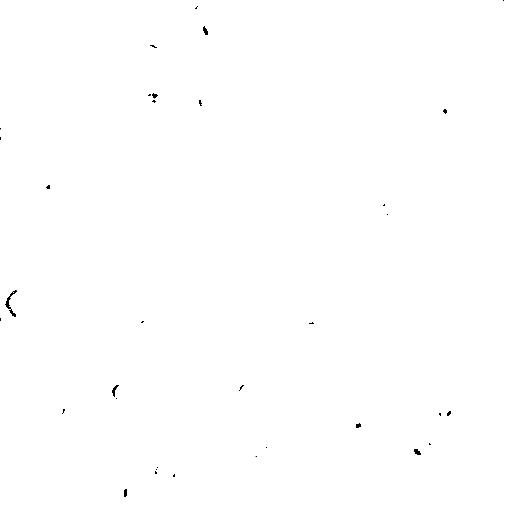micro-algae: (407, 428, 461, 486), (349, 0, 423, 41), (203, 35, 250, 77), (185, 59, 226, 97), (453, 1, 495, 31), (427, 389, 460, 425), (259, 184, 293, 218), (5, 287, 33, 318), (189, 15, 218, 43), (264, 441, 291, 471), (170, 332, 201, 358), (340, 414, 371, 439), (408, 429, 434, 457), (452, 46, 477, 74), (191, 273, 220, 297), (191, 1, 218, 25), (297, 302, 324, 326), (153, 459, 180, 483), (418, 0, 453, 18), (121, 479, 147, 503), (290, 315, 313, 341), (107, 469, 133, 490), (242, 142, 265, 165), (366, 301, 390, 323), (197, 87, 219, 110), (432, 95, 453, 119), (141, 42, 162, 65), (85, 269, 111, 287), (144, 90, 166, 111), (249, 437, 273, 456), (236, 381, 255, 403), (30, 0, 64, 12), (381, 195, 401, 215), (386, 150, 409, 167), (487, 1, 511, 16), (112, 380, 129, 400), (63, 392, 83, 409), (129, 307, 147, 323), (1, 138, 13, 161), (39, 171, 51, 191), (394, 504, 422, 511), (158, 505, 172, 511)
